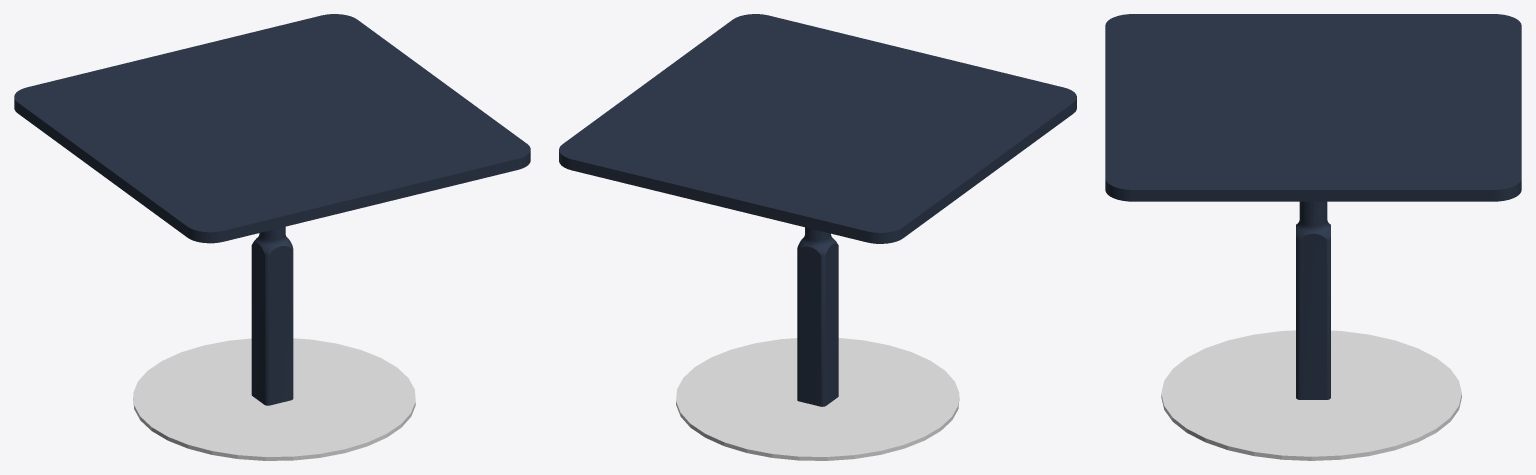
3 views of the same model, side by side, from view 1: azimuth 30°, elevation 25°; view 2: azimuth 150°, elevation 25°; view 3: azimuth 270°, elevation 25° (orthographic). The views are drawn at different scales.
Parts seen in each view (by area): view 1: L_956c6789_1e5a_4cb2_928b_7b80fcdd3e5a_C1_I11, Cylinder, L_584da2d7_cc1e_4726_8178_782962464571_C1_I4; view 2: L_956c6789_1e5a_4cb2_928b_7b80fcdd3e5a_C1_I11, Cylinder, L_584da2d7_cc1e_4726_8178_782962464571_C1_I4; view 3: L_956c6789_1e5a_4cb2_928b_7b80fcdd3e5a_C1_I11, Cylinder, L_584da2d7_cc1e_4726_8178_782962464571_C1_I4.
Part boxes in pixels (<box>): L_956c6789_1e5a_4cb2_928b_7b80fcdd3e5a_C1_I11: <box>14,14,530,243</box>; Cylinder: <box>133,338,415,460</box>; L_584da2d7_cc1e_4726_8178_782962464571_C1_I4: <box>251,226,293,405</box>; L_956c6789_1e5a_4cb2_928b_7b80fcdd3e5a_C1_I11: <box>559,14,1076,243</box>; Cylinder: <box>676,338,959,460</box>; L_584da2d7_cc1e_4726_8178_782962464571_C1_I4: <box>797,227,838,406</box>; L_956c6789_1e5a_4cb2_928b_7b80fcdd3e5a_C1_I11: <box>1105,14,1521,201</box>; Cylinder: <box>1161,330,1461,460</box>; L_584da2d7_cc1e_4726_8178_782962464571_C1_I4: <box>1296,201,1330,399</box>.
Bounding box in the file's own units: 0.9 × 0.7034 × 0.9.
